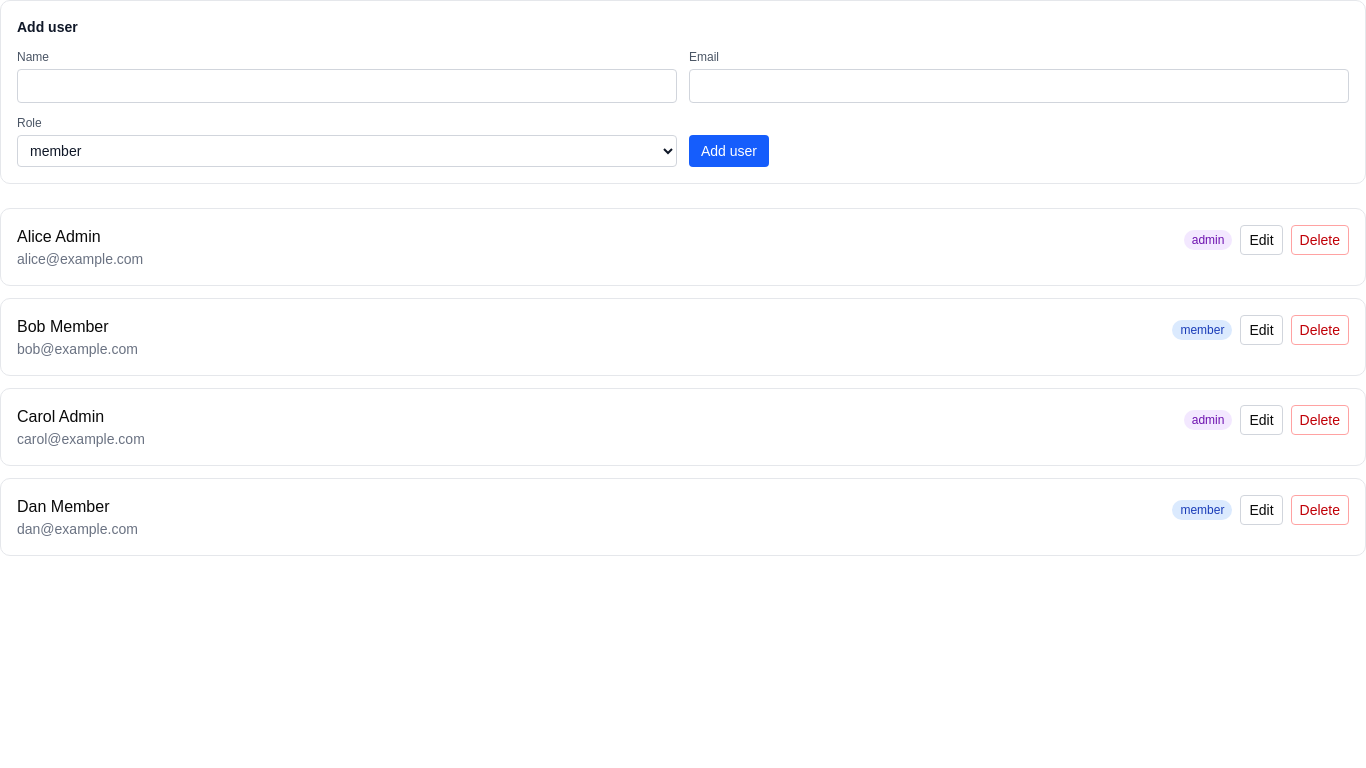
Test: UsersPage › updates a user from the card editor
The width and height of the screenshot is (1366, 768).
Expected: the text "Bob Member" is shown, [17,318,109,335]
Click the button "Edit" in the row of "bob@example.com": (1261, 330) [1240,315,1282,345]
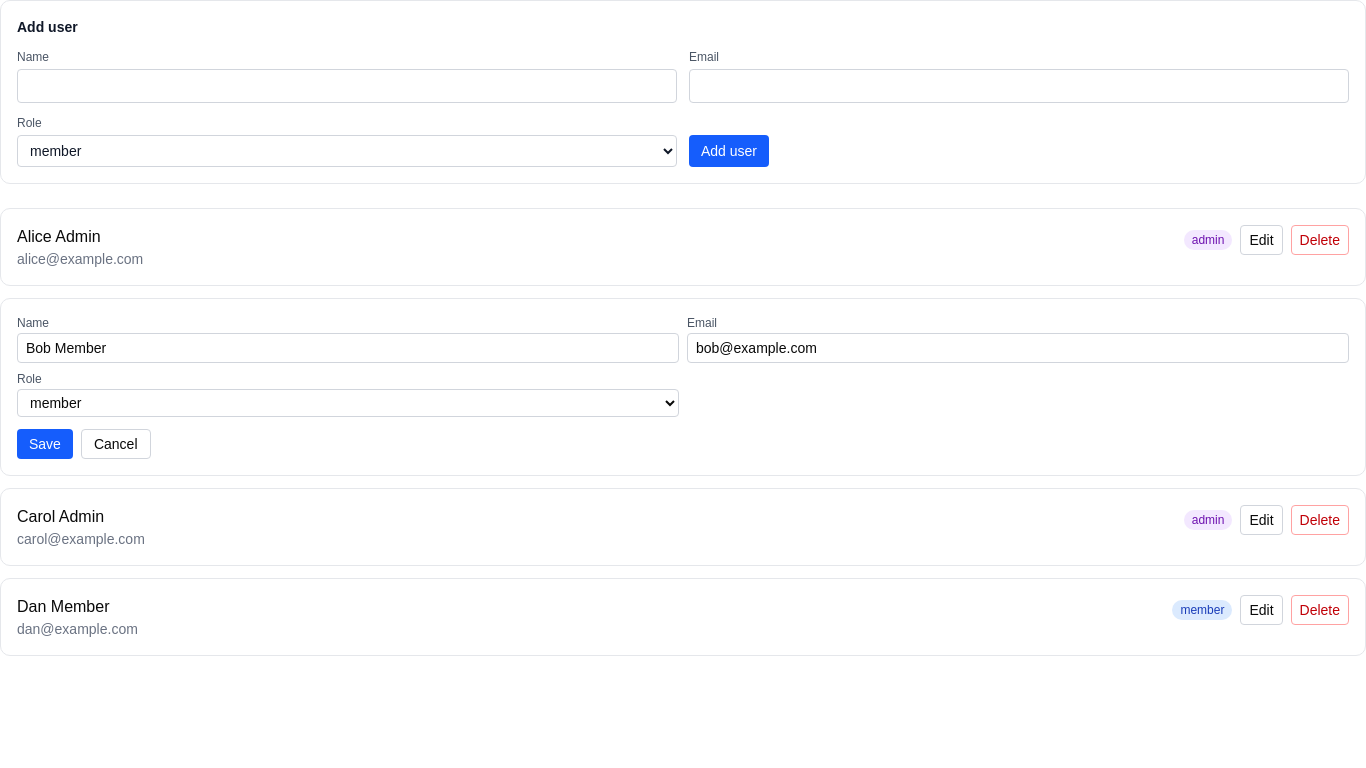
Replace the text in the field labelled "Name" below "alice@example.com" with "Bobby": (348, 348) [17,333,679,363]
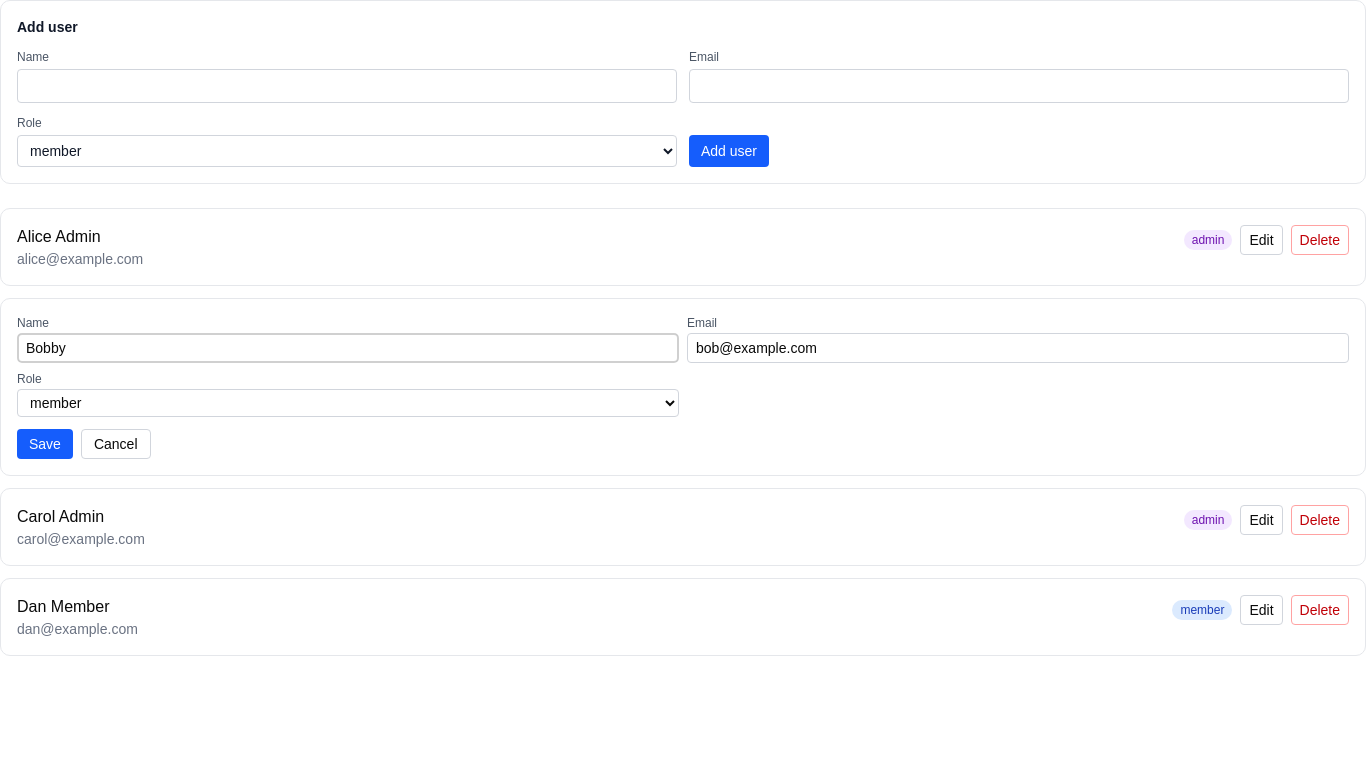
Click the button "Save": (45, 444) [17,429,73,459]
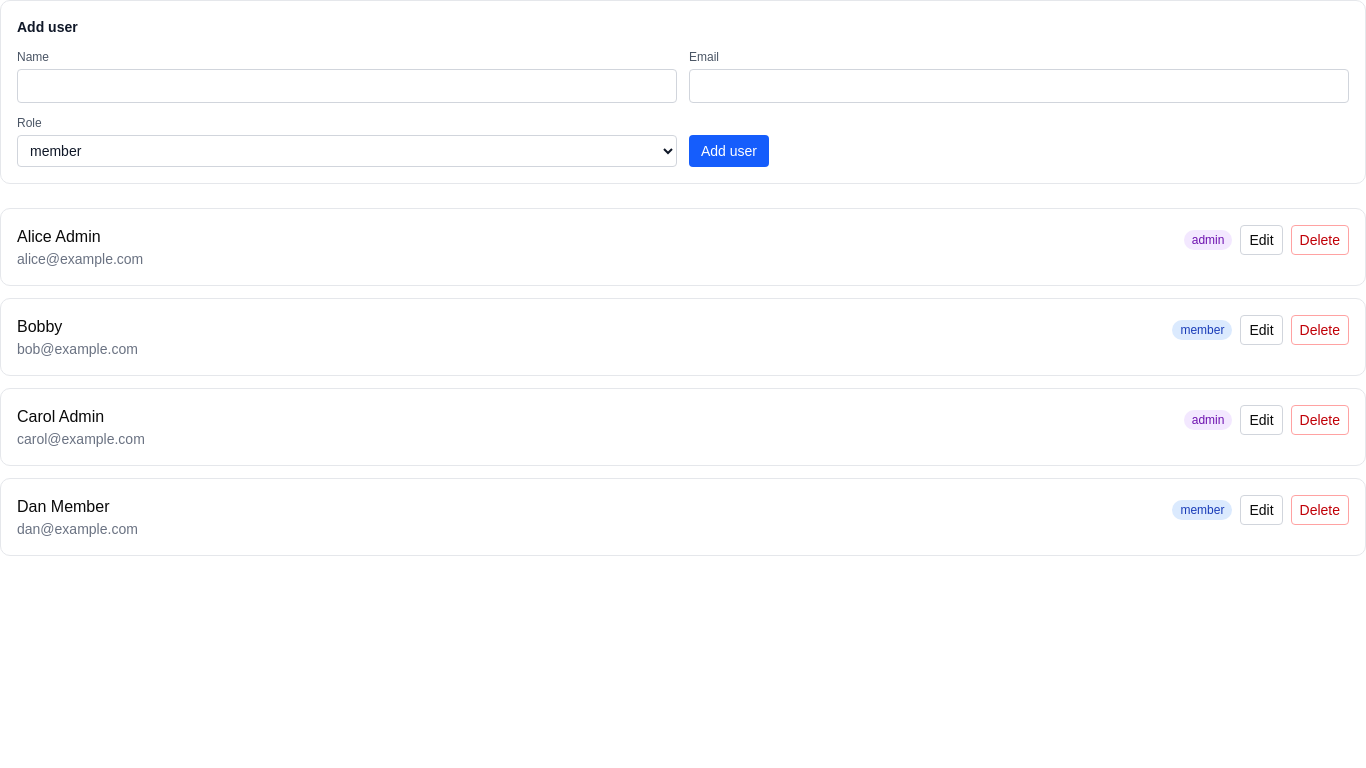
Expected: the text "Bobby" is shown, [17,318,62,335]
